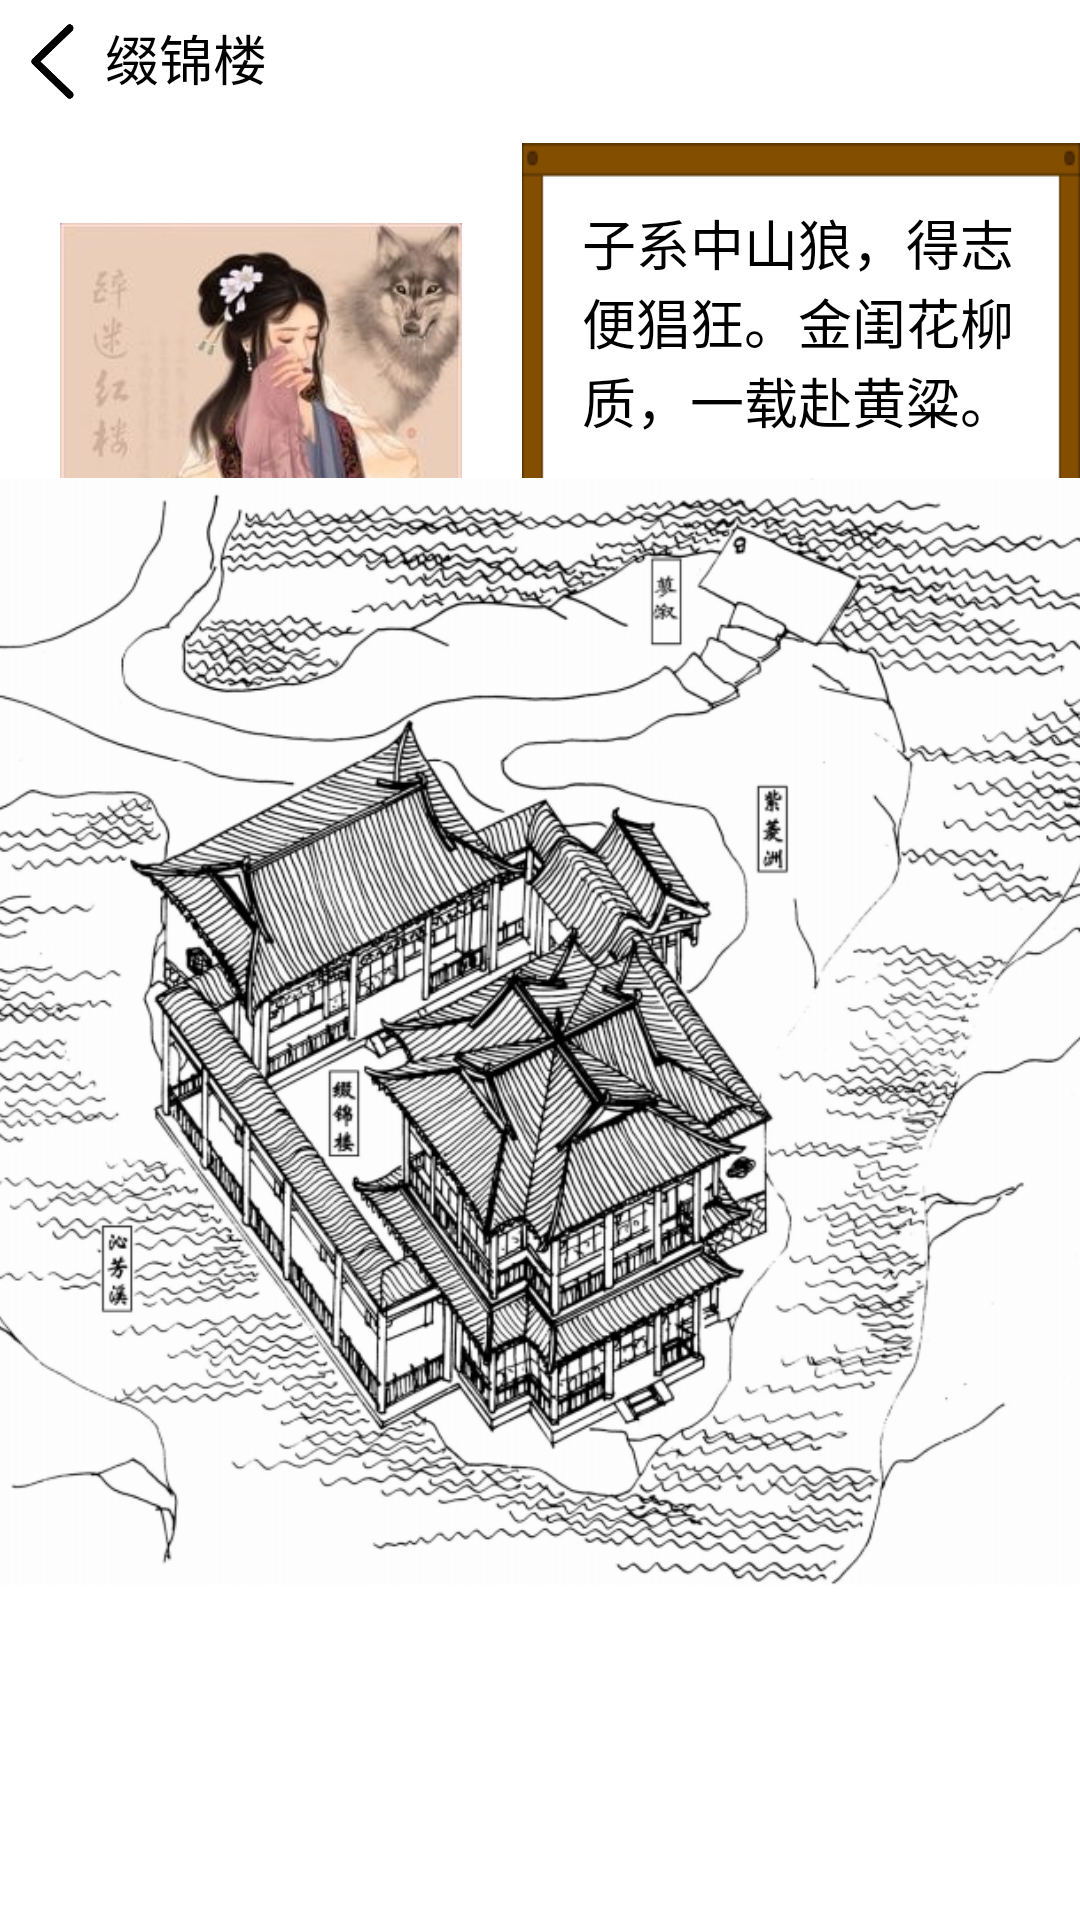

Named icons in this screenshot (1080*1920) and their bounding boxes, (x1, y1, x2, y2):
returnbutton: (31, 24, 74, 99)
